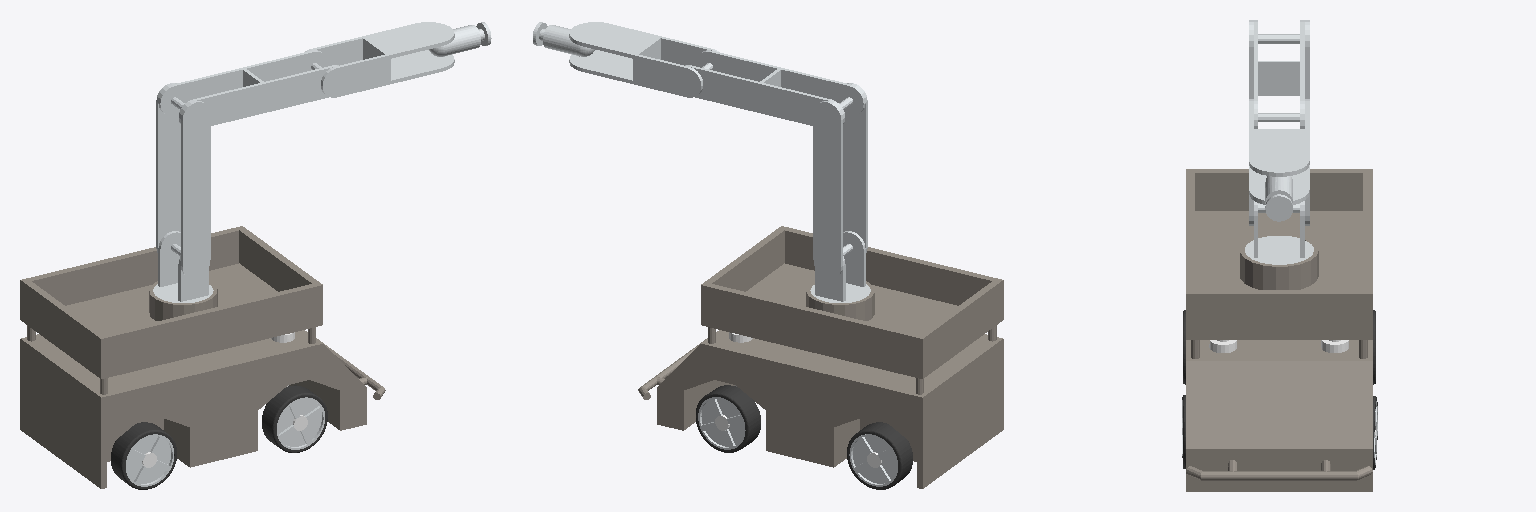
--- Facts derived from the render (not from the file) ---
3 views of the same robot in one strip: view 1: azimuth 30°, elevation 25°; view 2: azimuth 150°, elevation 25°; view 3: azimuth 270°, elevation 25° (orthographic).
Model navbot with 19 links and 18 joints (11 continuous, 7 fixed), rooted at dummy_link, posed every joint at zero.
Visible links, largest first — view 1: base_link, link_2, link_3, link_4, link_1, link_rear_right_rim, link_front_right_rim, link_front_right_tyre, link_rear_right_tyre, link_5; view 2: base_link, link_2, link_3, link_4, link_1, link_rear_left_rim, link_front_left_rim, link_front_left_tyre, link_rear_left_tyre, link_5; view 3: base_link, link_4, link_3, link_1, link_2, link_end_effector, link_5.
Boxes of the visible links, left/top/right/bottom form: base_link: left=20, top=226, right=385, bottom=488; link_2: left=156, top=83, right=210, bottom=278; link_3: left=158, top=50, right=338, bottom=125; link_4: left=305, top=22, right=454, bottom=97; link_1: left=153, top=231, right=213, bottom=302; link_rear_right_rim: left=126, top=434, right=173, bottom=486; link_front_right_rim: left=277, top=397, right=324, bottom=449; link_front_right_tyre: left=262, top=385, right=327, bottom=452; link_rear_right_tyre: left=111, top=422, right=176, bottom=489; link_5: left=429, top=25, right=480, bottom=56; base_link: left=638, top=226, right=1003, bottom=488; link_2: left=813, top=83, right=867, bottom=278; link_3: left=685, top=50, right=865, bottom=125; link_4: left=569, top=22, right=718, bottom=97; link_1: left=810, top=231, right=870, bottom=302; link_rear_left_rim: left=849, top=434, right=897, bottom=486; link_front_left_rim: left=698, top=397, right=745, bottom=449; link_front_left_tyre: left=696, top=385, right=760, bottom=452; link_rear_left_tyre: left=847, top=422, right=912, bottom=489; link_5: left=543, top=25, right=594, bottom=56; base_link: left=1186, top=169, right=1372, bottom=491; link_4: left=1249, top=99, right=1309, bottom=204; link_3: left=1254, top=20, right=1304, bottom=128; link_1: left=1245, top=201, right=1313, bottom=264; link_2: left=1249, top=20, right=1309, bottom=225; link_end_effector: left=1265, top=194, right=1292, bottom=221; link_5: left=1265, top=176, right=1292, bottom=203.
Size in the robot's own frame: 1.21 by 0.4199 by 0.95 metres.
Meshes: 18 distinct files referenced, 18 mesh visuals loaded (18 binary STL).

URDF robot description (navbot):
<?xml version="1.0" encoding="utf-8"?>
<!-- This URDF was automatically created by SolidWorks to URDF Exporter! Originally created by Stephen Brawner ([email redacted]) 
     Commit Version: 1.5.1-0-g916b5db  Build Version: 1.5.7152.31018
     For more information, please see http://wiki.ros.org/sw_urdf_exporter -->
<robot
  name="navbot">
  <link
    name="dummy_link">
  </link>
  <joint
    name="dummy_joint"
    type="fixed">
    <parent
      link="dummy_link"/>
    <child
      link="base_link"/>
  </joint>
  <link
    name="base_link">
    <inertial>
      <origin
        xyz="-0.00574243083162546 5.54009732590054E-09 0.169890254484883"
        rpy="0 0 0" />
      <mass
        value="422.822492059331" />
      <inertia
        ixx="9.55044189975523"
        ixy="-8.55585388996705E-07"
        ixz="0.740883638540849"
        iyy="22.1577975837696"
        iyz="-2.09095170490729E-07"
        izz="23.9989027352956" />
    </inertial>
    <visual>
      <origin
        xyz="0 0 0"
        rpy="0 0 0" />
      <geometry>
        <mesh
          filename="package://navbot/meshes/base_link.STL" />
      </geometry>
      <material
        name="">
        <color
          rgba="0.647058823529412 0.619607843137255 0.588235294117647 1" />
      </material>
    </visual>
    <collision>
      <origin
        xyz="0 0 0"
        rpy="0 0 0" />
      <geometry>
        <mesh
          filename="package://navbot/meshes/base_link.STL" />
      </geometry>
    </collision>
  </link>
  <gazebo reference="base_link">
    <material>Gazebo/Yellow</material>
  </gazebo>
  <link
    name="link_rear_axle">
    <inertial>
      <origin
        xyz="2.77555756156289E-17 0 7.26920691213685E-17"
        rpy="0 0 0" />
      <mass
        value="0.536835352645424" />
      <inertia
        ixx="0.00813515260567443"
        ixy="0"
        ixz="1.55401301601405E-21"
        iyy="0.00813515260567443"
        iyz="-9.04327428095806E-21"
        izz="6.33297955073898E-05" />
    </inertial>
    <visual>
      <origin
        xyz="0 0 0"
        rpy="0 0 0" />
      <geometry>
        <mesh
          filename="package://navbot/meshes/link_rear_axle.STL" />
      </geometry>
      <material
        name="">
        <color
          rgba="1 1 1 1" />
      </material>
    </visual>
    <collision>
      <origin
        xyz="0 0 0"
        rpy="0 0 0" />
      <geometry>
        <mesh
          filename="package://navbot/meshes/link_rear_axle.STL" />
      </geometry>
    </collision>
  </link>
  <gazebo reference="link_rear_axle">
    <material>Gazebo/Yellow</material>
  </gazebo>
  <joint
    name="joint_rear_axle"
    type="continuous">
    <origin
      xyz="-0.215 0 0.05"
      rpy="-1.5708 -0.40054 3.1416" />
    <parent
      link="base_link" />
    <child
      link="link_rear_axle" />
    <axis
      xyz="0 0 1" />
  </joint>
  <link
    name="link_rear_left_rim">
    <inertial>
      <origin
        xyz="0.04759900699422 2.77555756156289E-17 0"
        rpy="0 0 0" />
      <mass
        value="2.17989779228773" />
      <inertia
        ixx="0.00563923087829547"
        ixy="1.40523402635537E-19"
        ixz="3.57695924424167E-19"
        iyy="0.00338250938278668"
        iyz="1.51788304147971E-18"
        izz="0.00338250938278667" />
    </inertial>
    <visual>
      <origin
        xyz="0 0 0"
        rpy="0 0 0" />
      <geometry>
        <mesh
          filename="package://navbot/meshes/link_rear_left_rim.STL" />
      </geometry>
      <material
        name="">
        <color
          rgba="0.898039215686275 0.917647058823529 0.929411764705882 1" />
      </material>
    </visual>
    <collision>
      <origin
        xyz="0 0 0"
        rpy="0 0 0" />
      <geometry>
        <mesh
          filename="package://navbot/meshes/link_rear_left_rim.STL" />
      </geometry>
    </collision>
  </link>
  <gazebo reference="link_rear_left_rim">
    <material>Gazebo/Yellow</material>
  </gazebo>
  <joint
    name="joint_rear_left_rim"
    type="fixed">
    <origin
      xyz="0 0 -0.1275"
      rpy="1.3999 1.5708 0" />
    <parent
      link="link_rear_axle" />
    <child
      link="link_rear_left_rim" />
    <axis
      xyz="0 0 0" />
  </joint>
  <link
    name="link_rear_left_tyre">
    <inertial>
      <origin
        xyz="-5.55111512312578E-17 -1.38777878078145E-17 0.03"
        rpy="0 0 0" />
      <mass
        value="0.277425102785401" />
      <inertia
        ixx="0.000862580097775627"
        ixy="-5.42101086242752E-20"
        ixz="-1.14800709425822E-19"
        iyy="0.000862580097775628"
        iyz="6.71629079765894E-21"
        izz="0.00156439289169361" />
    </inertial>
    <visual>
      <origin
        xyz="0 0 0"
        rpy="0 0 0" />
      <geometry>
        <mesh
          filename="package://navbot/meshes/link_rear_left_tyre.STL" />
      </geometry>
      <material
        name="">
        <color
          rgba="0.298039215686275 0.298039215686275 0.298039215686275 1" />
      </material>
    </visual>
    <collision>
      <origin
        xyz="0 0 0"
        rpy="0 0 0" />
      <geometry>
        <mesh
          filename="package://navbot/meshes/link_rear_left_tyre.STL" />
      </geometry>
    </collision>
  </link>
  <gazebo reference="link_rear_left_tyre">
    <material>Gazebo/Black</material>
  </gazebo>
  <joint
    name="joint_rear_left_tyre"
    type="fixed">
    <origin
      xyz="0.08 0 0"
      rpy="-1.5708 -0.15555 1.5708" />
    <parent
      link="link_rear_left_rim" />
    <child
      link="link_rear_left_tyre" />
    <axis
      xyz="0 0 0" />
  </joint>
  <link
    name="link_rear_right_rim">
    <inertial>
      <origin
        xyz="0.0475990069942199 0 0"
        rpy="0 0 0" />
      <mass
        value="2.17989779228773" />
      <inertia
        ixx="0.00563923087829547"
        ixy="5.18143569753106E-20"
        ixz="4.02635771702536E-19"
        iyy="0.00338250938278668"
        iyz="1.73472347597681E-18"
        izz="0.00338250938278668" />
    </inertial>
    <visual>
      <origin
        xyz="0 0 0"
        rpy="0 0 0" />
      <geometry>
        <mesh
          filename="package://navbot/meshes/link_rear_right_rim.STL" />
      </geometry>
      <material
        name="">
        <color
          rgba="0.898039215686275 0.917647058823529 0.929411764705882 1" />
      </material>
    </visual>
    <collision>
      <origin
        xyz="0 0 0"
        rpy="0 0 0" />
      <geometry>
        <mesh
          filename="package://navbot/meshes/link_rear_right_rim.STL" />
      </geometry>
    </collision>
  </link>
  <gazebo reference="link_rear_right_rim">
    <material>Gazebo/Yellow</material>
  </gazebo>
  <joint
    name="joint_rear_right_rim"
    type="fixed">
    <origin
      xyz="0 0 0.1275"
      rpy="0.97783 -1.5708 0" />
    <parent
      link="link_rear_axle" />
    <child
      link="link_rear_right_rim" />
    <axis
      xyz="0 0 0" />
  </joint>
  <link
    name="link_rear_right_tyre">
    <inertial>
      <origin
        xyz="0 2.77555756156289E-17 0.03"
        rpy="0 0 0" />
      <mass
        value="0.277425102785401" />
      <inertia
        ixx="0.000862580097775628"
        ixy="0"
        ixz="-1.13973500776398E-19"
        iyy="0.000862580097775628"
        iyz="-1.53085782332388E-20"
        izz="0.00156439289169361" />
    </inertial>
    <visual>
      <origin
        xyz="0 0 0"
        rpy="0 0 0" />
      <geometry>
        <mesh
          filename="package://navbot/meshes/link_rear_right_tyre.STL" />
      </geometry>
      <material
        name="">
        <color
          rgba="0.298039215686275 0.298039215686275 0.298039215686275 1" />
      </material>
    </visual>
    <collision>
      <origin
        xyz="0 0 0"
        rpy="0 0 0" />
      <geometry>
        <mesh
          filename="package://navbot/meshes/link_rear_right_tyre.STL" />
      </geometry>
    </collision>
  </link>
  <gazebo reference="link_rear_right_tyre">
    <material>Gazebo/Black</material>
  </gazebo>
  <joint
    name="joint_rear_right_tyre"
    type="fixed">
    <origin
      xyz="0.02 0 0"
      rpy="-1.5708 0.074591 -1.5708" />
    <parent
      link="link_rear_right_rim" />
    <child
      link="link_rear_right_tyre" />
    <axis
      xyz="0 0 0" />
  </joint>
  <link
    name="link_front_left_axle">
    <inertial>
      <origin
        xyz="1.10891879540054E-07 0.125024005469989 -0.0107604411422391"
        rpy="0 0 0" />
      <mass
        value="0.49495776580367" />
      <inertia
        ixx="0.0039900101683786"
        ixy="-1.2390557473812E-10"
        ixz="-4.2801510396367E-11"
        iyy="0.000358959536469292"
        iyz="-0.000559352144239239"
        izz="0.00372216577421488" />
    </inertial>
    <visual>
      <origin
        xyz="0 0 0"
        rpy="0 0 0" />
      <geometry>
        <mesh
          filename="package://navbot/meshes/link_front_left_axle.STL" />
      </geometry>
      <material
        name="">
        <color
          rgba="1 1 1 1" />
      </material>
    </visual>
    <collision>
      <origin
        xyz="0 0 0"
        rpy="0 0 0" />
      <geometry>
        <mesh
          filename="package://navbot/meshes/link_front_left_axle.STL" />
      </geometry>
    </collision>
  </link>
  <gazebo reference="link_front_left_axle">
    <material>Gazebo/Yellow</material>
  </gazebo>
  <joint
    name="joint_front_left_axle"
    type="continuous">
    <origin
      xyz="0.215 0.12 0.03"
      rpy="1.5708 0 -0.052539" />
    <parent
      link="base_link" />
    <child
      link="link_front_left_axle" />
    <axis
      xyz="0 1 0" />
  </joint>
  <link
    name="link_front_left_rim">
    <inertial>
      <origin
        xyz="0.04759900699422 -5.55111512312578E-17 1.38777878078145E-17"
        rpy="0 0 0" />
      <mass
        value="2.17989779228773" />
      <inertia
        ixx="0.00563923087829547"
        ixy="4.87890977618477E-19"
        ixz="-4.06575814682064E-20"
        iyy="0.00338250938278667"
        iyz="9.2877162666434E-19"
        izz="0.00338250938278668" />
    </inertial>
    <visual>
      <origin
        xyz="0 0 0"
        rpy="0 0 0" />
      <geometry>
        <mesh
          filename="package://navbot/meshes/link_front_left_rim.STL" />
      </geometry>
      <material
        name="">
        <color
          rgba="0.898039215686275 0.917647058823529 0.929411764705882 1" />
      </material>
    </visual>
    <collision>
      <origin
        xyz="0 0 0"
        rpy="0 0 0" />
      <geometry>
        <mesh
          filename="package://navbot/meshes/link_front_left_rim.STL" />
      </geometry>
    </collision>
  </link>
  <gazebo reference="link_front_left_rim">
    <material>Gazebo/Yellow</material>
  </gazebo>
  <joint
    name="joint_front_left_rim"
    type="continuous">
    <origin
      xyz="0 0.02 -0.0075"
      rpy="0 1.5708 2.6779" />
    <parent
      link="link_front_left_axle" />
    <child
      link="link_front_left_rim" />
    <axis
      xyz="1 0 0" />
  </joint>
  <link
    name="link_front_left_tyre">
    <inertial>
      <origin
        xyz="2.77555756156289E-17 -2.77555756156289E-17 0.03"
        rpy="0 0 0" />
      <mass
        value="0.277425102785401" />
      <inertia
        ixx="0.000862580097775627"
        ixy="9.01031297641762E-20"
        ixz="8.94466792300541E-19"
        iyy="0.000862580097775627"
        iyz="-8.48727013148809E-19"
        izz="0.00156439289169361" />
    </inertial>
    <visual>
      <origin
        xyz="0 0 0"
        rpy="0 0 0" />
      <geometry>
        <mesh
          filename="package://navbot/meshes/link_front_left_tyre.STL" />
      </geometry>
      <material
        name="">
        <color
          rgba="0.298039215686275 0.298039215686275 0.298039215686275 1" />
      </material>
    </visual>
    <collision>
      <origin
        xyz="0 0 0"
        rpy="0 0 0" />
      <geometry>
        <mesh
          filename="package://navbot/meshes/link_front_left_tyre.STL" />
      </geometry>
    </collision>
  </link>
  <gazebo reference="link_front_left_tyre">
    <material>Gazebo/Black</material>
  </gazebo>
  <joint
    name="joint_front_left_tyre"
    type="fixed">
    <origin
      xyz="0.08 0 0"
      rpy="-1.5708 -1.2338 1.5708" />
    <parent
      link="link_front_left_rim" />
    <child
      link="link_front_left_tyre" />
    <axis
      xyz="0 0 0" />
  </joint>
  <link
    name="link_front_right_axle">
    <inertial>
      <origin
        xyz="2.59269704983023E-07 0.125024021675921 -0.010760430046453"
        rpy="0 0 0" />
      <mass
        value="0.494957686734281" />
      <inertia
        ixx="0.00399001010542706"
        ixy="2.58863452849418E-10"
        ixz="5.00785754858001E-11"
        iyy="0.000358959532065348"
        iyz="-0.000559352107853414"
        izz="0.00372216571421861" />
    </inertial>
    <visual>
      <origin
        xyz="0 0 0"
        rpy="0 0 0" />
      <geometry>
        <mesh
          filename="package://navbot/meshes/link_front_right_axle.STL" />
      </geometry>
      <material
        name="">
        <color
          rgba="1 1 1 1" />
      </material>
    </visual>
    <collision>
      <origin
        xyz="0 0 0"
        rpy="0 0 0" />
      <geometry>
        <mesh
          filename="package://navbot/meshes/link_front_right_axle.STL" />
      </geometry>
    </collision>
  </link>
  <gazebo reference="link_front_right_axle">
    <material>Gazebo/Yellow</material>
  </gazebo>
  <joint
    name="joint_front_right_axle"
    type="continuous">
    <origin
      xyz="0.215 -0.12 0.03"
      rpy="1.5708 0 -3.1269" />
    <parent
      link="base_link" />
    <child
      link="link_front_right_axle" />
    <axis
      xyz="0 1 0" />
  </joint>
  <link
    name="link_front_right_rim">
    <inertial>
      <origin
        xyz="0.04759900699422 -5.55111512312578E-17 8.32667268468867E-17"
        rpy="0 0 0" />
      <mass
        value="2.17989779228773" />
      <inertia
        ixx="0.00563923087829547"
        ixy="-8.77526133355455E-19"
        ixz="2.92056960213283E-18"
        iyy="0.00338250938278667"
        iyz="4.84396966711053E-20"
        izz="0.00338250938278668" />
    </inertial>
    <visual>
      <origin
        xyz="0 0 0"
        rpy="0 0 0" />
      <geometry>
        <mesh
          filename="package://navbot/meshes/link_front_right_rim.STL" />
      </geometry>
      <material
        name="">
        <color
          rgba="0.898039215686275 0.917647058823529 0.929411764705882 1" />
      </material>
    </visual>
    <collision>
      <origin
        xyz="0 0 0"
        rpy="0 0 0" />
      <geometry>
        <mesh
          filename="package://navbot/meshes/link_front_right_rim.STL" />
      </geometry>
    </collision>
  </link>
  <gazebo reference="link_front_right_rim">
    <material>Gazebo/Yellow</material>
  </gazebo>
  <joint
    name="joint_front_right_rim"
    type="continuous">
    <origin
      xyz="0 0.02 -0.00749999999999999"
      rpy="0.400955617368748 1.5707963267949 0" />
    <parent
      link="link_front_right_axle" />
    <child
      link="link_front_right_rim" />
    <axis
      xyz="1 0 0" />
  </joint>
  <link
    name="link_front_right_tyre">
    <inertial>
      <origin
        xyz="0 -2.77555756156289E-17 0.03"
        rpy="0 0 0" />
      <mass
        value="0.277425102785402" />
      <inertia
        ixx="0.00086258009777563"
        ixy="5.50670677388802E-20"
        ixz="-6.70850094225406E-19"
        iyy="0.00086258009777563"
        iyz="-4.39186583151355E-19"
        izz="0.00156439289169361" />
    </inertial>
    <visual>
      <origin
        xyz="0 0 0"
        rpy="0 0 0" />
      <geometry>
        <mesh
          filename="package://navbot/meshes/link_front_right_tyre.STL" />
      </geometry>
      <material
        name="">
        <color
          rgba="0.298039215686275 0.298039215686275 0.298039215686275 1" />
      </material>
    </visual>
    <collision>
      <origin
        xyz="0 0 0"
        rpy="0 0 0" />
      <geometry>
        <mesh
          filename="package://navbot/meshes/link_front_right_tyre.STL" />
      </geometry>
    </collision>
  </link>
  <gazebo reference="link_front_right_tyre">
    <material>Gazebo/Black</material>
  </gazebo>
  <joint
    name="joint_front_right_tyre"
    type="fixed">
    <origin
      xyz="0.02 0 0"
      rpy="1.5707963267949 0.844055022272718 1.5707963267949" />
    <parent
      link="link_front_right_rim" />
    <child
      link="link_front_right_tyre" />
    <axis
      xyz="0 0 0" />
  </joint>
  <link
    name="link_1">
    <inertial>
      <origin
        xyz="8.23467233947929E-19 0.0993386761017062 -1.69688700924841E-19"
        rpy="0 0 0" />
      <mass
        value="9.1390811190568" />
      <inertia
        ixx="0.0487965981021645"
        ixy="-1.27348713913367E-18"
        ixz="1.1069427670884E-19"
        iyy="0.0258204077918584"
        iyz="-1.18619606999968E-18"
        izz="0.0498938056035688" />
    </inertial>
    <visual>
      <origin
        xyz="0 0 0"
        rpy="0 0 0" />
      <geometry>
        <mesh
          filename="package://navbot/meshes/link_1.STL" />
      </geometry>
      <material
        name="">
        <color
          rgba="0.898039215686275 0.917647058823529 0.929411764705882 1" />
      </material>
    </visual>
    <collision>
      <origin
        xyz="0 0 0"
        rpy="0 0 0" />
      <geometry>
        <mesh
          filename="package://navbot/meshes/link_1.STL" />
      </geometry>
    </collision>
  </link>
  <gazebo reference="link_1">
    <material>Gazebo/Orange</material>
  </gazebo>
  <joint
    name="joint_1"
    type="continuous">
    <origin
      xyz="0 0 0.2"
      rpy="1.5708 0 1.5708" />
    <parent
      link="base_link" />
    <child
      link="link_1" />
    <axis
      xyz="0 1 0" />
  </joint>
  <link
    name="link_2">
    <inertial>
      <origin
        xyz="4.21468486042182E-09 0.200000000000001 4.49816509197686E-17"
        rpy="0 0 0" />
      <mass
        value="2.18604420889339" />
      <inertia
        ixx="0.0443530457701329"
        ixy="-7.56860847114201E-10"
        ixz="-5.47156987570897E-20"
        iyy="0.00843762732486857"
        iyz="-4.50781791324572E-18"
        izz="0.0507209956806042" />
    </inertial>
    <visual>
      <origin
        xyz="0 0 0"
        rpy="0 0 0" />
      <geometry>
        <mesh
          filename="package://navbot/meshes/link_2.STL" />
      </geometry>
      <material
        name="">
        <color
          rgba="0.898039215686275 0.917647058823529 0.929411764705882 1" />
      </material>
    </visual>
    <collision>
      <origin
        xyz="0 0 0"
        rpy="0 0 0" />
      <geometry>
        <mesh
          filename="package://navbot/meshes/link_2.STL" />
      </geometry>
    </collision>
  </link>
  <gazebo reference="link_2">
    <material>Gazebo/Orange</material>
  </gazebo>
  <joint
    name="joint_2"
    type="continuous">
    <origin
      xyz="0 0.28 0"
      rpy="-3.1416 0 3.1416" />
    <parent
      link="link_1" />
    <child
      link="link_2" />
    <axis
      xyz="1 0 0" />
  </joint>
  <link
    name="link_3">
    <inertial>
      <origin
        xyz="-5.68294713632741E-17 -0.2 -6.66133814775094E-16"
        rpy="0 0 0" />
      <mass
        value="2.15990440461139" />
      <inertia
        ixx="0.0356257266086387"
        ixy="-2.09248611707827E-17"
        ixz="2.3123943074961E-17"
        iyy="0.00619436542699183"
        iyz="2.81764908551687E-18"
        izz="0.0395540816114473" />
    </inertial>
    <visual>
      <origin
        xyz="0 0 0"
        rpy="0 0 0" />
      <geometry>
        <mesh
          filename="package://navbot/meshes/link_3.STL" />
      </geometry>
      <material
        name="">
        <color
          rgba="0.898039215686275 0.917647058823529 0.929411764705882 1" />
      </material>
    </visual>
    <collision>
      <origin
        xyz="0 0 0"
        rpy="0 0 0" />
      <geometry>
        <mesh
          filename="package://navbot/meshes/link_3.STL" />
      </geometry>
    </collision>
  </link>
  <gazebo reference="link_3">
    <material>Gazebo/Orange</material>
  </gazebo>
  <joint
    name="joint_3"
    type="continuous">
    <origin
      xyz="0 0.4 0"
      rpy="1.5708 0 0" />
    <parent
      link="link_2" />
    <child
      link="link_3" />
    <axis
      xyz="1 0 0" />
  </joint>
  <link
    name="link_4">
    <inertial>
      <origin
        xyz="-5.91118618588781E-15 -0.17623526729091 9.99200722162641E-16"
        rpy="0 0 0" />
      <mass
        value="2.5633930873931" />
      <inertia
        ixx="0.0324934459369349"
        ixy="4.1372114099417E-17"
        ixz="2.43119914274586E-17"
        iyy="0.00730600107061401"
        iyz="-4.17674835796458E-17"
        izz="0.035293174970927" />
    </inertial>
    <visual>
      <origin
        xyz="0 0 0"
        rpy="0 0 0" />
      <geometry>
        <mesh
          filename="package://navbot/meshes/link_4.STL" />
      </geometry>
      <material
        name="">
        <color
          rgba="0.898039215686275 0.917647058823529 0.929411764705882 1" />
      </material>
    </visual>
    <collision>
      <origin
        xyz="0 0 0"
        rpy="0 0 0" />
      <geometry>
        <mesh
          filename="package://navbot/meshes/link_4.STL" />
      </geometry>
    </collision>
  </link>
  <gazebo reference="link_4">
    <material>Gazebo/Orange</material>
  </gazebo>
  <joint
    name="joint_4"
    type="continuous">
    <origin
      xyz="0 -0.4 0"
      rpy="0 0 0" />
    <parent
      link="link_3" />
    <child
      link="link_4" />
    <axis
      xyz="1 0 0" />
  </joint>
  <link
    name="link_5">
    <inertial>
      <origin
        xyz="-3.47105544721201E-08 0.0235907129380932 -6.89973345124884E-09"
        rpy="0 0 0" />
      <mass
        value="0.741865788464824" />
      <inertia
        ixx="0.00106142107943006"
        ixy="-4.44545174493104E-10"
        ixz="1.64486245796405E-10"
        iyy="0.000356591742403898"
        iyz="-4.49525952452804E-10"
        izz="0.00107482191696341" />
    </inertial>
    <visual>
      <origin
        xyz="0 0 0"
        rpy="0 0 0" />
      <geometry>
        <mesh
          filename="package://navbot/meshes/link_5.STL" />
      </geometry>
      <material
        name="">
        <color
          rgba="0.898039215686275 0.917647058823529 0.929411764705882 1" />
      </material>
    </visual>
    <collision>
      <origin
        xyz="0 0 0"
        rpy="0 0 0" />
      <geometry>
        <mesh
          filename="package://navbot/meshes/link_5.STL" />
      </geometry>
    </collision>
  </link>
  <gazebo reference="link_5">
    <material>Gazebo/Orange</material>
  </gazebo>
  <joint
    name="joint_5"
    type="continuous">
    <origin
      xyz="0 -0.345 0"
      rpy="0 0 -3.14159" />
    <parent
      link="link_4" />
    <child
      link="link_5" />
    <axis
      xyz="0 0 1" />
  </joint>
  <link
    name="link_end_effector">
    <inertial>
      <origin
        xyz="1.11022302462516E-15 0.0372 -5.44009282066327E-15"
        rpy="0 0 0" />
      <mass
        value="0.238564692131974" />
      <inertia
        ixx="0.000169155686583547"
        ixy="7.6598960407846E-21"
        ixz="0"
        iyy="6.46808521542814E-05"
        iyz="-1.04339855432807E-20"
        izz="0.000169155686583547" />
    </inertial>
    <visual>
      <origin
        xyz="0 0 0"
        rpy="0 0 0" />
      <geometry>
        <mesh
          filename="package://navbot/meshes/link_end_effector.STL" />
      </geometry>
      <material
        name="">
        <color
          rgba="0.898039215686275 0.917647058823529 0.929411764705882 1" />
      </material>
    </visual>
    <collision>
      <origin
        xyz="0 0 0"
        rpy="0 0 0" />
      <geometry>
        <mesh
          filename="package://navbot/meshes/link_end_effector.STL" />
      </geometry>
    </collision>
  </link>
  <gazebo reference="link_end_effector">
    <material>Gazebo/Green</material>
  </gazebo>
  <joint
    name="joint_end_effector"
    type="continuous">
    <origin
      xyz="0 0.048 0"
      rpy="0 -1.355 0" />
    <parent
      link="link_5" />
    <child
      link="link_end_effector" />
    <axis
      xyz="0 1 0" />
  </joint>
  <transmission name="trans1">
    <type>transmission_interface/SimpleTransmission</type>
    <joint name="joint_rear_axle">
      <hardwareInterface>hardware_interface/EffortJointInterface</hardwareInterface>
    </joint>
    <actuator name="Engine">
      <hardwareInterface>hardware_interface/EffortJointInterface</hardwareInterface>
      <mechanicalReduction>1</mechanicalReduction>
    </actuator>
  </transmission>
  <transmission name="trans2">
    <type>transmission_interface/SimpleTransmission</type>
    <joint name="joint_front_left_axle">
      <hardwareInterface>hardware_interface/PositionJointInterface</hardwareInterface>
    </joint>
    <actuator name="F_L_motor">
      <hardwareInterface>hardware_interface/PositionJointInterface</hardwareInterface>
      <mechanicalReduction>1</mechanicalReduction>
    </actuator>
  </transmission>
  <transmission name="trans3">
    <type>transmission_interface/SimpleTransmission</type>
    <joint name="joint_front_right_axle">
      <hardwareInterface>hardware_interface/PositionJointInterface</hardwareInterface>
    </joint>
    <actuator name="F_R_motor">
      <hardwareInterface>hardware_interface/PositionJointInterface</hardwareInterface>
      <mechanicalReduction>1</mechanicalReduction>
    </actuator>
  </transmission>
  <transmission name="trans4">
    <type>transmission_interface/SimpleTransmission</type>
    <joint name="joint_1">
      <hardwareInterface>hardware_interface/PositionJointInterface</hardwareInterface>
    </joint>
    <actuator name="joint_1_motor">
      <hardwareInterface>hardware_interface/PositionJointInterface</hardwareInterface>
      <mechanicalReduction>1</mechanicalReduction>
    </actuator>
  </transmission>
  <transmission name="trans5">
    <type>transmission_interface/SimpleTransmission</type>
    <joint name="joint_2">
      <hardwareInterface>hardware_interface/PositionJointInterface</hardwareInterface>
    </joint>
    <actuator name="joint_2_motor">
      <hardwareInterface>hardware_interface/PositionJointInterface</hardwareInterface>
      <mechanicalReduction>1</mechanicalReduction>
    </actuator>
  </transmission>
  <transmission name="trans6">
    <type>transmission_interface/SimpleTransmission</type>
    <joint name="joint_3">
      <hardwareInterface>hardware_interface/PositionJointInterface</hardwareInterface>
    </joint>
    <actuator name="joint_3_motor">
      <hardwareInterface>hardware_interface/PositionJointInterface</hardwareInterface>
      <mechanicalReduction>1</mechanicalReduction>
    </actuator>
  </transmission>
  <transmission name="trans7">
    <type>transmission_interface/SimpleTransmission</type>
    <joint name="joint_4">
      <hardwareInterface>hardware_interface/PositionJointInterface</hardwareInterface>
    </joint>
    <actuator name="joint_4_motor">
      <hardwareInterface>hardware_interface/PositionJointInterface</hardwareInterface>
      <mechanicalReduction>1</mechanicalReduction>
    </actuator>
  </transmission>
    <transmission name="trans8">
    <type>transmission_interface/SimpleTransmission</type>
    <joint name="joint_5">
      <hardwareInterface>hardware_interface/PositionJointInterface</hardwareInterface>
    </joint>
    <actuator name="joint_5_motor">
      <hardwareInterface>hardware_interface/PositionJointInterface</hardwareInterface>
      <mechanicalReduction>1</mechanicalReduction>
    </actuator>
  </transmission>
  <transmission name="trans9">
    <type>transmission_interface/SimpleTransmission</type>
    <joint name="joint_end_effector">
      <hardwareInterface>hardware_interface/PositionJointInterface</hardwareInterface>
    </joint>
    <actuator name="end_effector_motor">
      <hardwareInterface>hardware_interface/PositionJointInterface</hardwareInterface>
      <mechanicalReduction>1</mechanicalReduction>
    </actuator>
  </transmission>
  <transmission name="trans10">
    <type>transmission_interface/SimpleTransmission</type>
    <joint name="joint_front_left_rim">
      <hardwareInterface>hardware_interface/EffortJointInterface</hardwareInterface>
    </joint>
    <actuator name="Engine1">
      <hardwareInterface>hardware_interface/EffortJointInterface</hardwareInterface>
      <mechanicalReduction>1</mechanicalReduction>
    </actuator>
  </transmission>
  <transmission name="trans11">
    <type>transmission_interface/SimpleTransmission</type>
    <joint name="joint_front_right_rim">
      <hardwareInterface>hardware_interface/EffortJointInterface</hardwareInterface>
    </joint>
    <actuator name="Engine2">
      <hardwareInterface>hardware_interface/EffortJointInterface</hardwareInterface>
      <mechanicalReduction>1</mechanicalReduction>
    </actuator>
  </transmission>
</robot>
